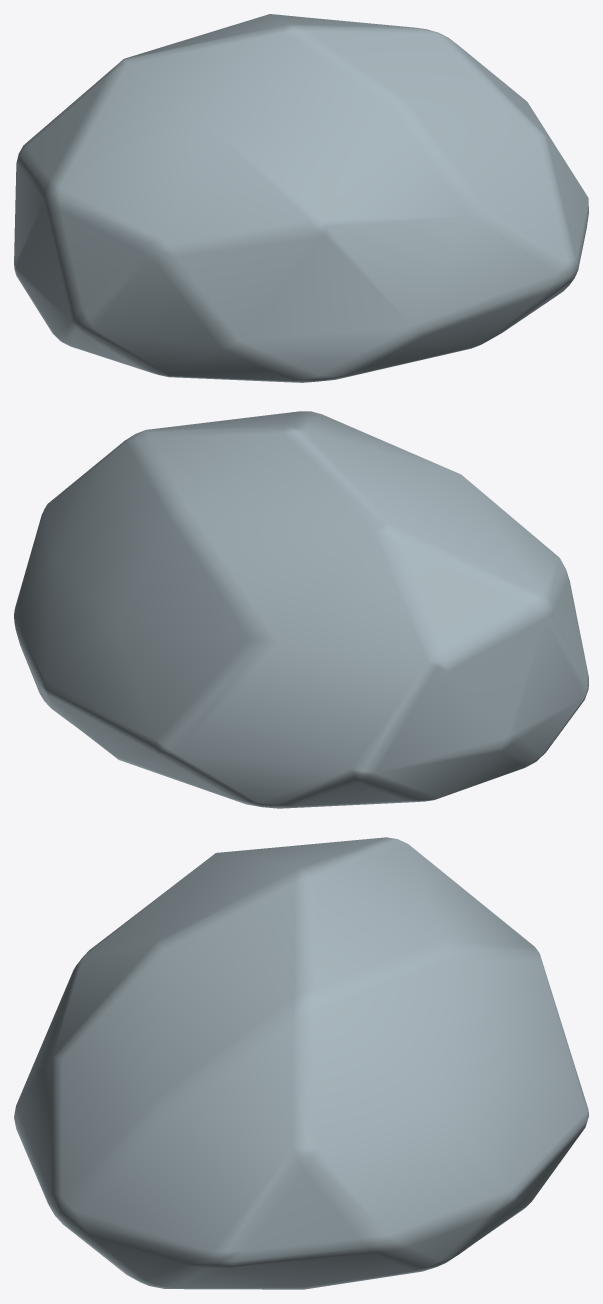
The model's file is boulder_large.glb.
The picture shows the model from 3 angles, top to bottom: view 1: azimuth 30°, elevation 25°; view 2: azimuth 150°, elevation 25°; view 3: azimuth 270°, elevation 25°; orthographic projection. The views are drawn at different scales.
Visible parts, largest first — view 1: Surface_Rock; view 2: Surface_Rock; view 3: Surface_Rock.
Boxes of the visible parts, x1=… form: Surface_Rock: x1=14, y1=14, x2=588, y2=382; Surface_Rock: x1=14, y1=411, x2=588, y2=808; Surface_Rock: x1=14, y1=837, x2=588, y2=1289.
Size of the model in its own units: 4.09 by 2.02 by 3.5.
